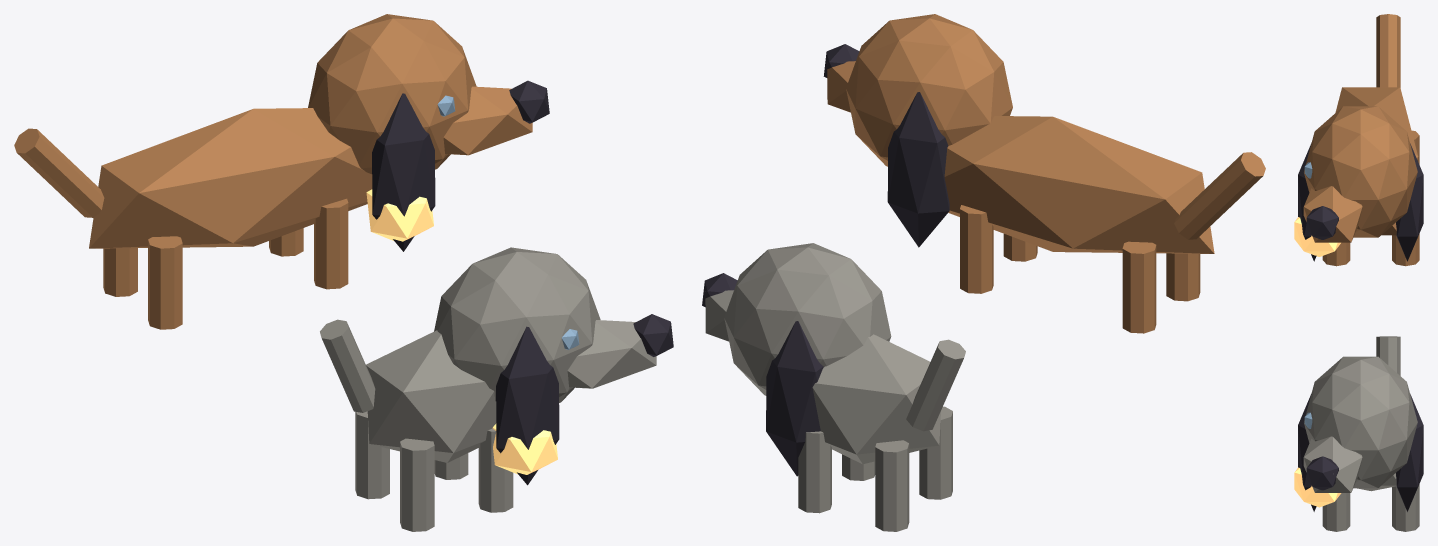
The model's file is werehound-twins.glb.
The picture shows the model from 3 angles, left to right: view 1: azimuth 30°, elevation 25°; view 2: azimuth 150°, elevation 25°; view 3: azimuth 270°, elevation 25°; orthographic projection. The views are drawn at different scales.
Visible parts, largest first — view 1: Long dachshund body.001, Round grey dog body.001, Dog nose.002, Pumpkin collar.002; view 2: Long dachshund body.001, Round grey dog body.001, Dog nose.002; view 3: Long dachshund body.001, Round grey dog body.001, Dog nose.002, Pumpkin collar.002, Dog eye.002.
Part boxes in pixels (x1,y1,x2,y2): Long dachshund body.001: [14, 14, 532, 329]; Round grey dog body.001: [320, 247, 656, 531]; Dog nose.002: [372, 80, 673, 485]; Pumpkin collar.002: [366, 189, 557, 474]; Long dachshund body.001: [827, 14, 1265, 333]; Round grey dog body.001: [705, 243, 965, 531]; Dog nose.002: [702, 44, 949, 476]; Long dachshund body.001: [1303, 14, 1419, 266]; Round grey dog body.001: [1303, 336, 1419, 531]; Dog nose.002: [1298, 143, 1423, 511]; Pumpkin collar.002: [1294, 217, 1341, 507]; Dog eye.002: [1304, 162, 1312, 428].
Size of the model in its own units: 0.0316 by 0.0245 by 0.00748.
